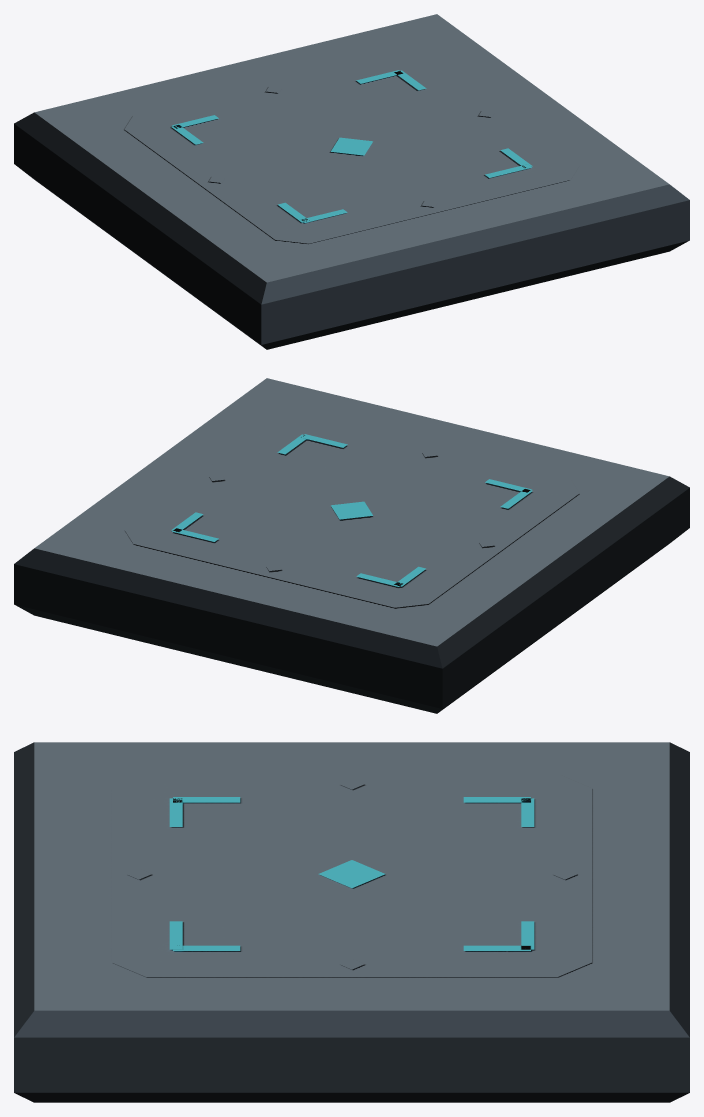
The model's file is 0-20261016-1900-ev040-r07-floor4-lotmarker_baked.glb.
The picture shows the model from 3 angles, top to bottom: view 1: azimuth 30°, elevation 25°; view 2: azimuth 150°, elevation 25°; view 3: azimuth 270°, elevation 25°; orthographic projection. The views are drawn at different scales.
Parts seen in each view (by area): view 1: SW_Leasing_LotMarker; view 2: SW_Leasing_LotMarker; view 3: SW_Leasing_LotMarker.
Part boxes in pixels (x1,y1,x2,y2): SW_Leasing_LotMarker: (14, 14, 689, 349); SW_Leasing_LotMarker: (14, 378, 689, 713); SW_Leasing_LotMarker: (14, 742, 689, 1102).
Bounding box in the file's own units: 0.2 × 0.0308 × 0.2.
Materials: 1 (1 with a texture image).
